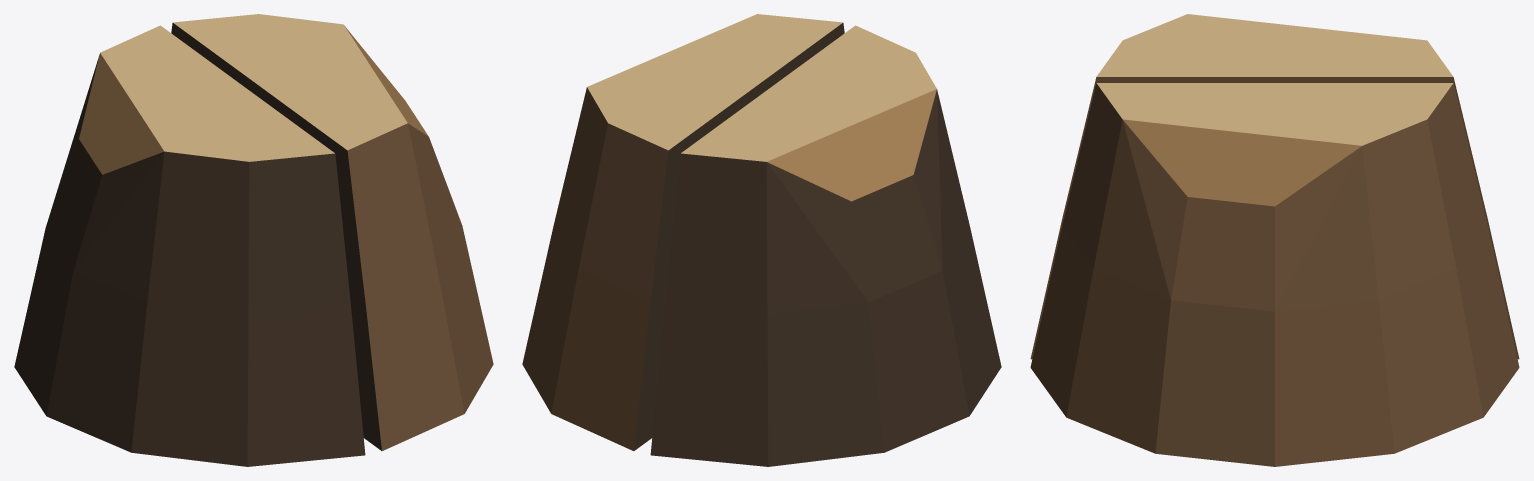
Rendered from TW_PROP_STUMP_SPLIT_A_LOD0.glb.
The picture shows the model from 3 angles, left to right: view 1: azimuth 30°, elevation 25°; view 2: azimuth 150°, elevation 25°; view 3: azimuth 270°, elevation 25°; orthographic projection. The views are drawn at different scales.
Visible parts, largest first — view 1: TW_PROP_STUMP_SPLIT_A_LOD0; view 2: TW_PROP_STUMP_SPLIT_A_LOD0; view 3: TW_PROP_STUMP_SPLIT_A_LOD0.
Part boxes in pixels (x1,y1,x2,y2): TW_PROP_STUMP_SPLIT_A_LOD0: [14, 14, 493, 466]; TW_PROP_STUMP_SPLIT_A_LOD0: [522, 14, 1001, 466]; TW_PROP_STUMP_SPLIT_A_LOD0: [1030, 14, 1519, 466].
Size of the model in its own units: 0.782 by 0.5 by 0.7814.
1 material, 1 textured.
